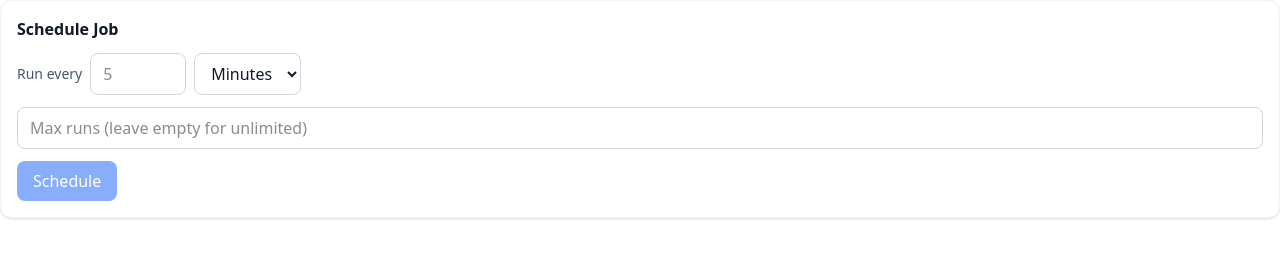
Test case: ScheduleSection - No Schedule › shows cron preview when interval is typed
Type "10" into the number field with placeholder "5" at {"x": 138, "y": 74}, box [90,53,186,95]
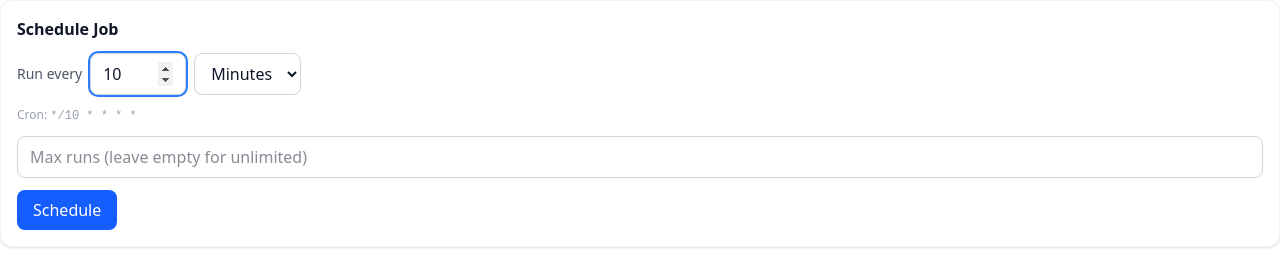
Result: the text "*/10 * * * *" is shown at [50,109,137,123]
